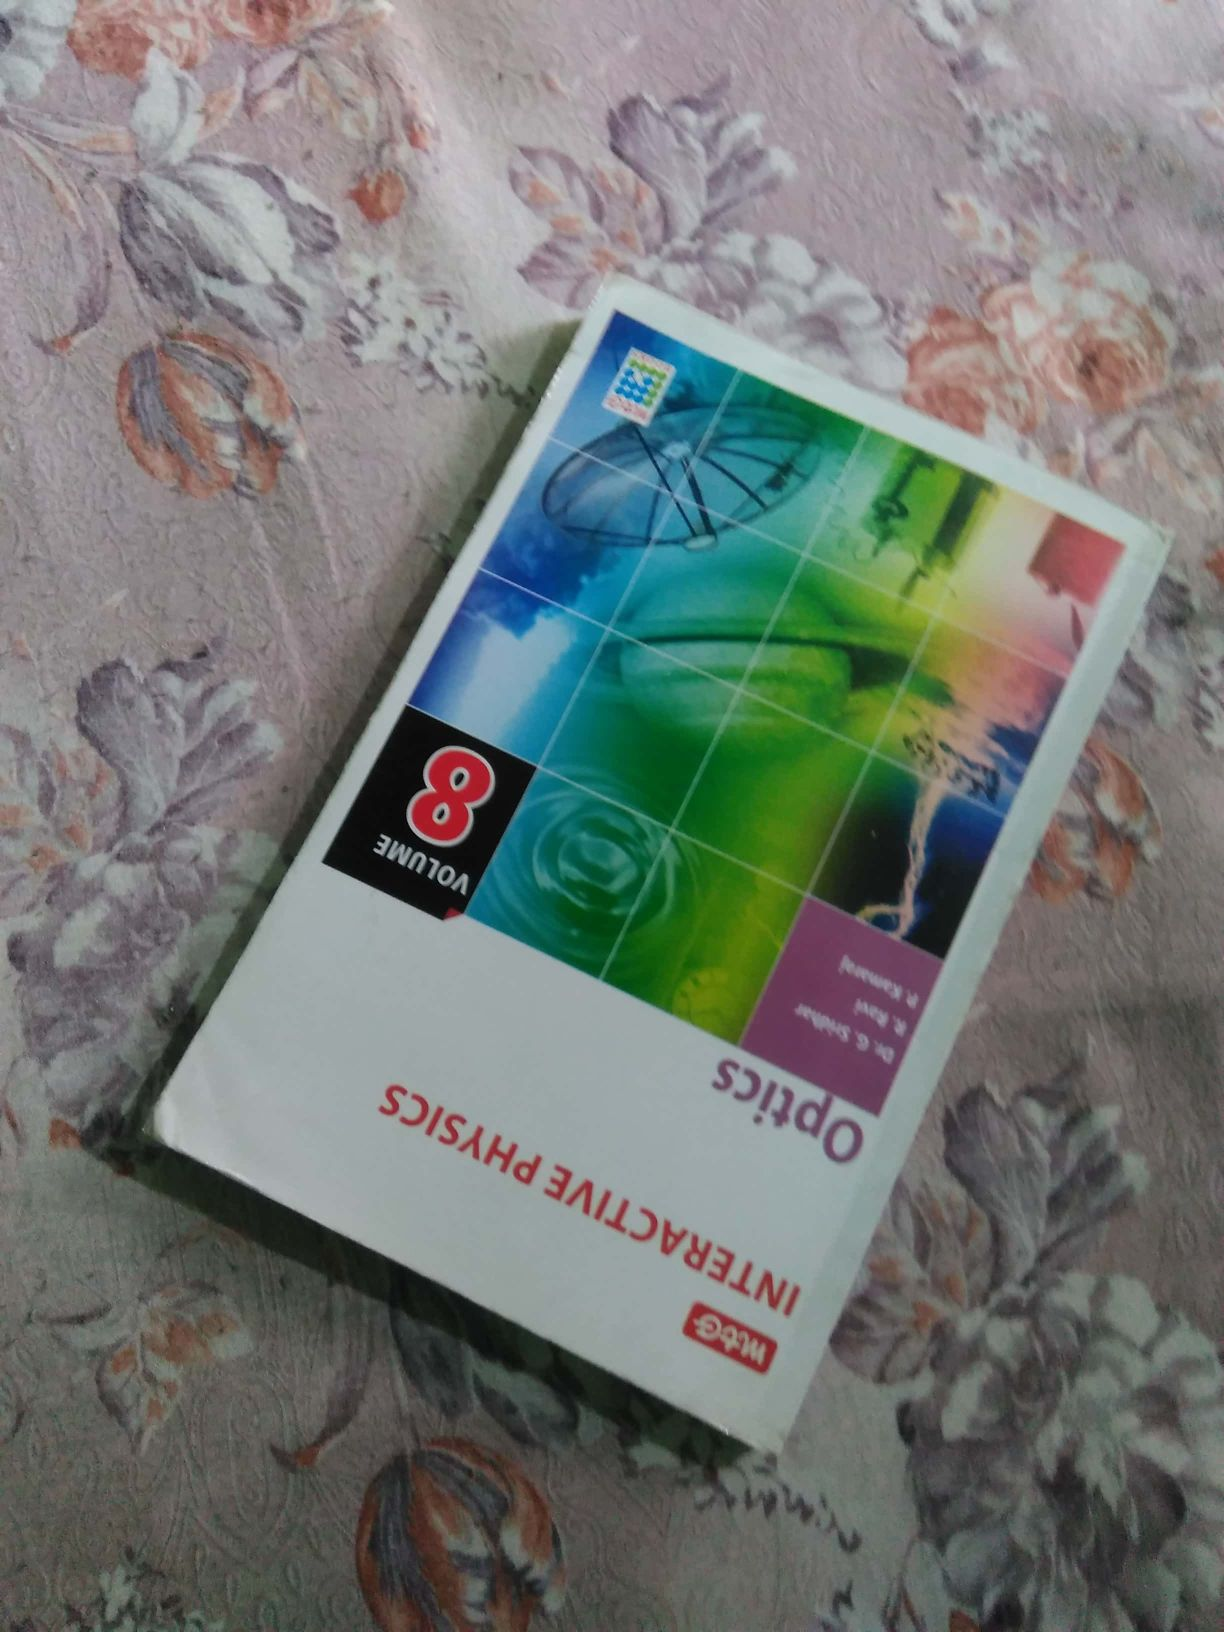optics: (183, 317, 1085, 1387)
